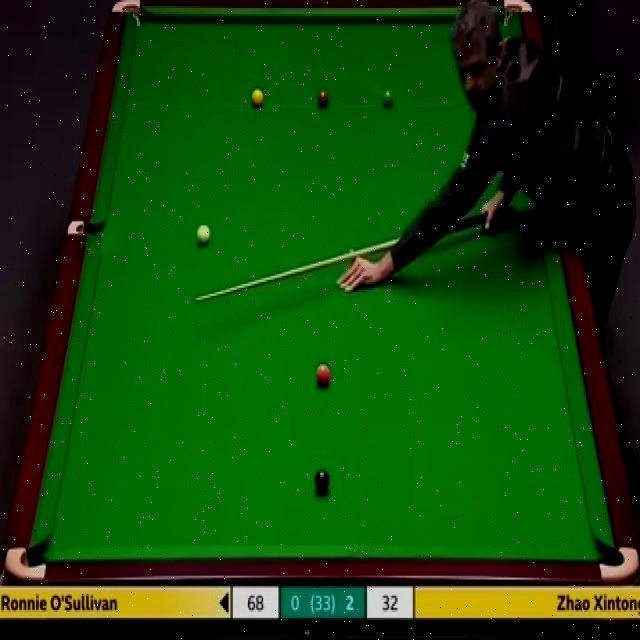black-ball: (313, 468, 331, 494)
brown-ball: (316, 87, 330, 108)
green-ball: (380, 89, 394, 109)
pink-ball: (314, 363, 331, 387)
white-ball: (195, 221, 212, 249)
yellow-ball: (251, 86, 264, 108)
